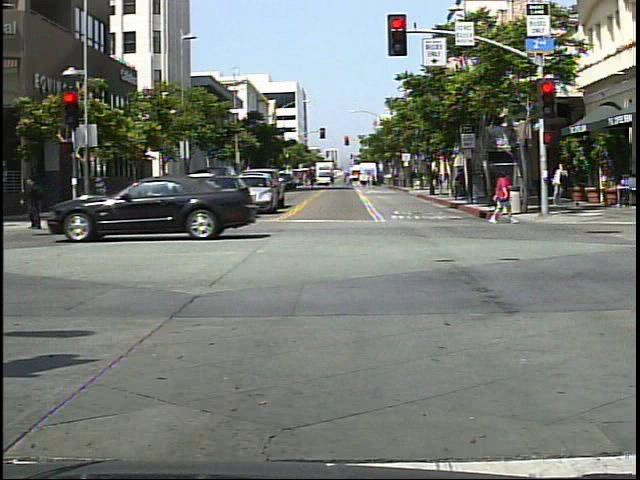person: (155, 171, 188, 235), (487, 169, 520, 230), (21, 168, 49, 234), (549, 160, 571, 211)
